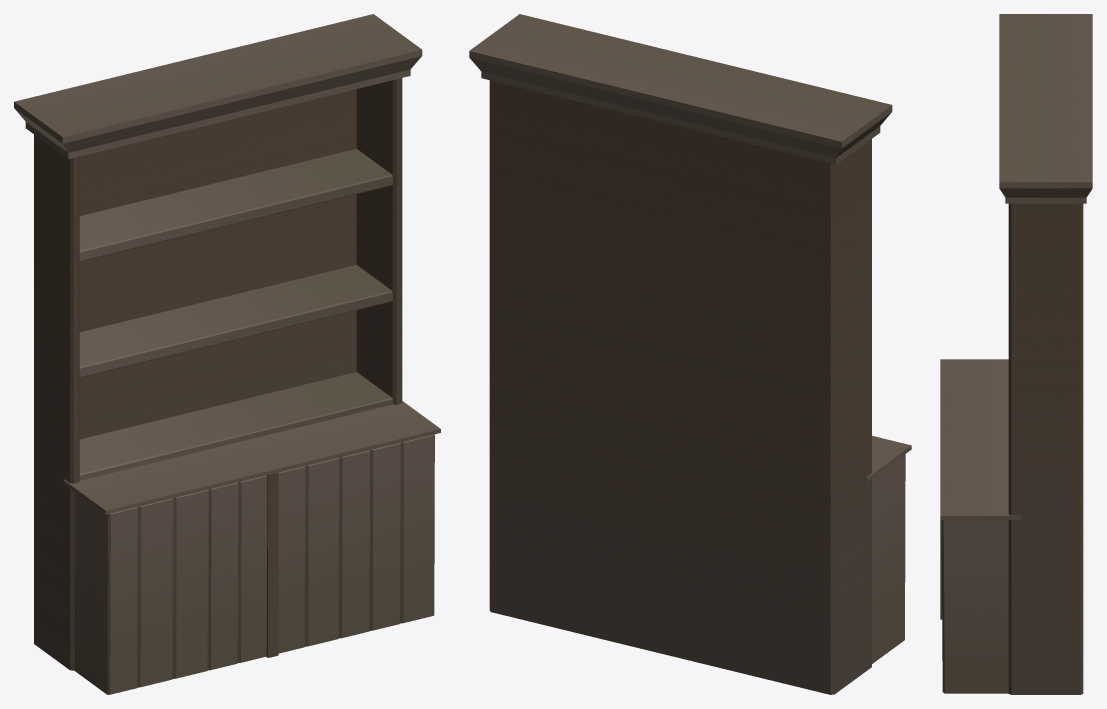
Rendered from Cupboard_4.fbx.
3 views of the same model, side by side, from view 1: azimuth 30°, elevation 25°; view 2: azimuth 150°, elevation 25°; view 3: azimuth 270°, elevation 25° (orthographic). The views are drawn at different scales.
Parts seen in each view (by area): view 1: pCube797; view 2: pCube797; view 3: pCube797.
Boxes of the visible parts, x1,y1,x2,y2 form: pCube797: (14,14,440,694); pCube797: (469,14,911,694); pCube797: (940,14,1092,694).
Size of the model in its own units: 267 by 384 by 102.
